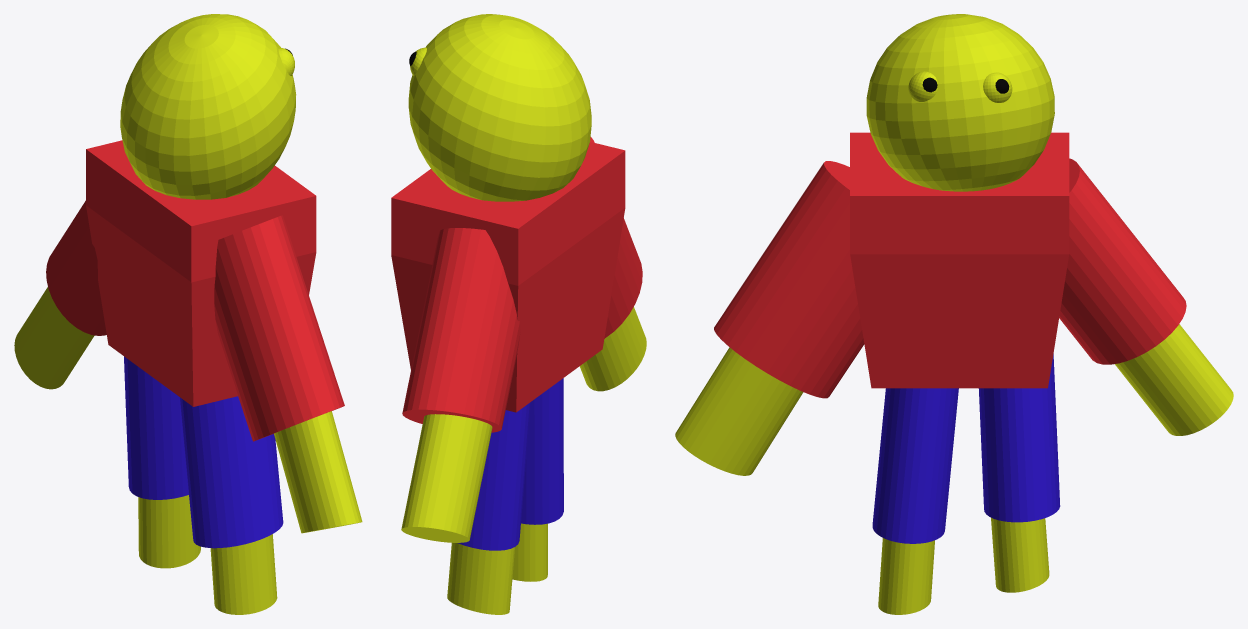
Rendered from Aidan lego buff guy.fbx.
3 renders of one model, left to right at view 1: azimuth 30°, elevation 25°; view 2: azimuth 150°, elevation 25°; view 3: azimuth 270°, elevation 25°, orthographic. The views are drawn at different scales.
Visible parts, largest first — view 1: Cube, Sphere, Cylinder, Cylinder.002, Cylinder.003, Cylinder.008, Cylinder.001, Cylinder.004, Cylinder.006, Cylinder.007; view 2: Cube, Sphere, Cylinder.001, Cylinder.004, Cylinder.003, Cylinder.002, Cylinder.007, Cylinder.008, Cylinder, Cylinder.006; view 3: Cube, Sphere, Cylinder, Cylinder.001, Cylinder.002, Cylinder.003, Cylinder.008, Cylinder.004, Cylinder.007, Cylinder.006.
Boxes of the visible parts, x1=… form: Cube: x1=86, y1=140, x2=316, y2=406; Sphere: x1=120, y1=14, x2=296, y2=199; Cylinder: x1=214, y1=215, x2=344, y2=441; Cylinder.002: x1=179, y1=396, x2=283, y2=548; Cylinder.003: x1=124, y1=356, x2=188, y2=499; Cylinder.008: x1=274, y1=411, x2=362, y2=533; Cylinder.001: x1=46, y1=200, x2=106, y2=335; Cylinder.004: x1=14, y1=287, x2=94, y2=389; Cylinder.006: x1=210, y1=534, x2=277, y2=614; Cylinder.007: x1=138, y1=495, x2=200, y2=568; Cube: x1=391, y1=142, x2=625, y2=412; Sphere: x1=408, y1=14, x2=591, y2=201; Cylinder.001: x1=402, y1=228, x2=520, y2=432; Cylinder.004: x1=401, y1=414, x2=492, y2=542; Cylinder.003: x1=457, y1=402, x2=530, y2=550; Cylinder.002: x1=521, y1=378, x2=563, y2=524; Cylinder.007: x1=447, y1=542, x2=514, y2=614; Cylinder.008: x1=579, y1=307, x2=646, y2=391; Cylinder: x1=590, y1=137, x2=642, y2=338; Cylinder.006: x1=512, y1=523, x2=547, y2=581; Cube: x1=850, y1=132, x2=1069, y2=388; Sphere: x1=866, y1=14, x2=1054, y2=191; Cylinder: x1=714, y1=161, x2=864, y2=398; Cylinder.001: x1=1059, y1=158, x2=1186, y2=364; Cylinder.002: x1=872, y1=388, x2=958, y2=543; Cylinder.003: x1=978, y1=354, x2=1060, y2=522; Cylinder.008: x1=675, y1=347, x2=803, y2=475; Cylinder.004: x1=1115, y1=324, x2=1233, y2=435; Cylinder.007: x1=991, y1=517, x2=1049, y2=592; Cylinder.006: x1=878, y1=538, x2=934, y2=614.
Size of the model in its own units: 136 by 475 by 412.
